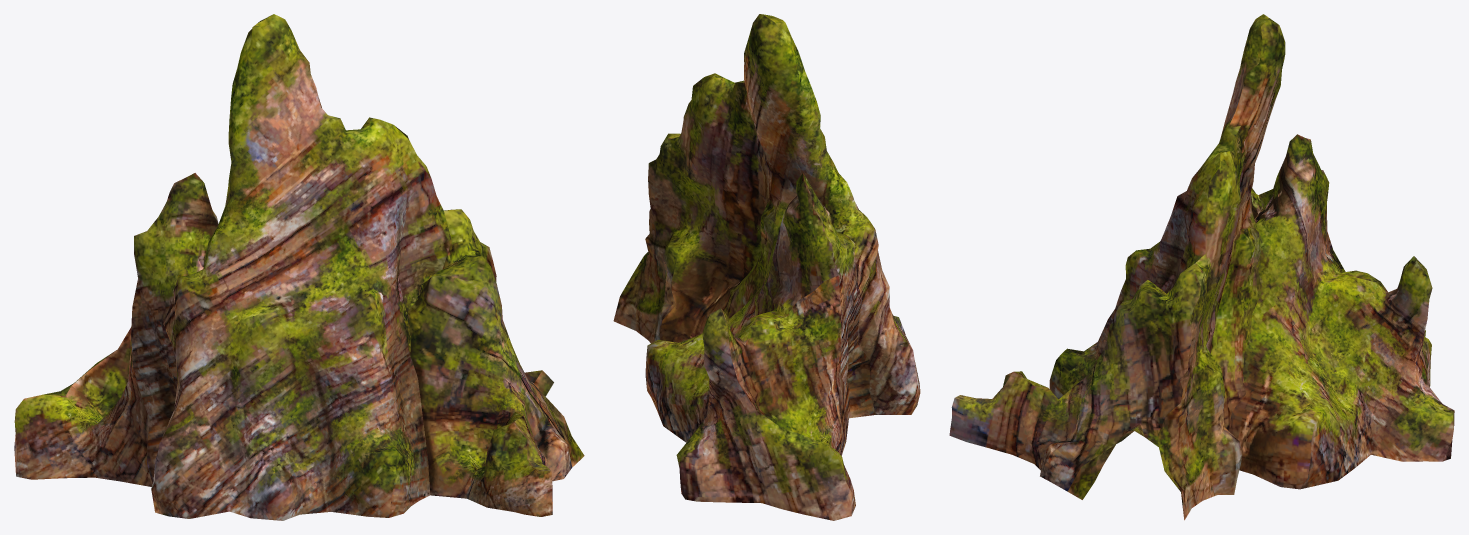
The model's file is 1_DiMian02.FBX.
3 renders of one model, left to right at view 1: azimuth 30°, elevation 25°; view 2: azimuth 150°, elevation 25°; view 3: azimuth 270°, elevation 25°, orthographic. The views are drawn at different scales.
Parts seen in each view (by area): view 1: DrawCall_0350; view 2: DrawCall_0350; view 3: DrawCall_0350.
Part boxes in pixels (<box>): DrawCall_0350: <box>14,14,584,520</box>; DrawCall_0350: <box>613,14,920,520</box>; DrawCall_0350: <box>949,14,1454,520</box>.
Size of the model in its own units: 1.91 by 2.22 by 2.29.
